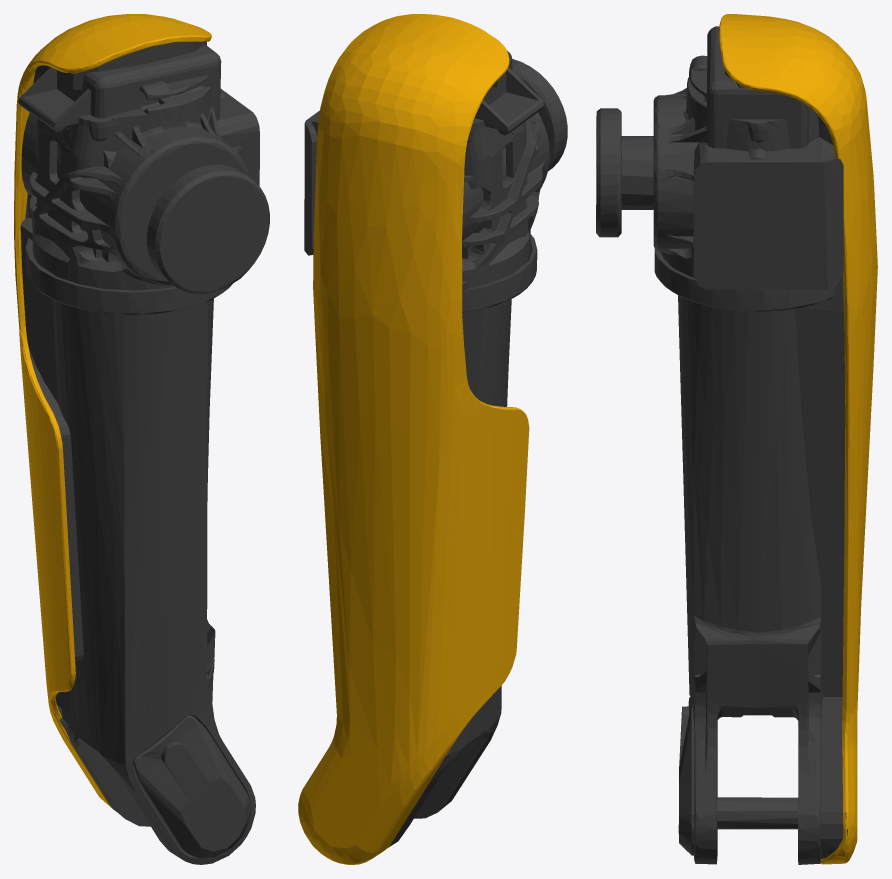
Rendered from front_left_upper_leg.dae.
3 renders of one model, left to right at view 1: azimuth 30°, elevation 25°; view 2: azimuth 150°, elevation 25°; view 3: azimuth 270°, elevation 25°, orthographic. The views are drawn at different scales.
Parts seen in each view (by area): view 1: front_left_upper_leg; view 2: front_left_upper_leg; view 3: front_left_upper_leg.
Boxes of the visible parts, box(x1,y1,x2,y2) form: front_left_upper_leg: box(14, 14, 269, 864); front_left_upper_leg: box(298, 14, 567, 864); front_left_upper_leg: box(596, 14, 877, 864).
Size of the model in its own units: 0.1013 by 0.1323 by 0.4185.
